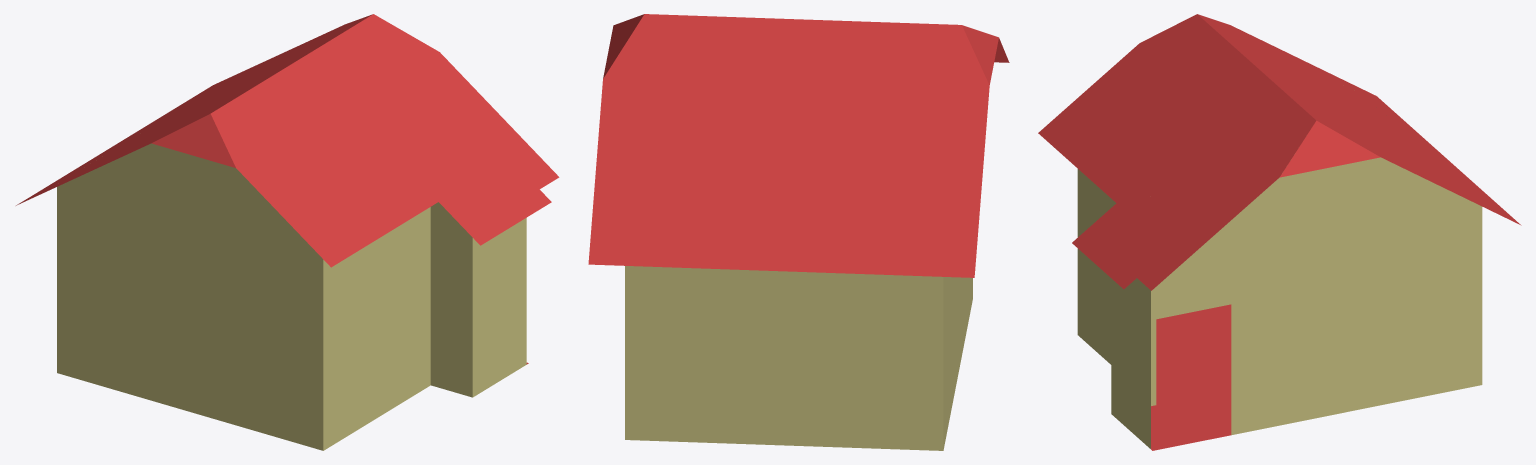
3 renders of one model, left to right at view 1: azimuth 30°, elevation 25°; view 2: azimuth 150°, elevation 25°; view 3: azimuth 270°, elevation 25°, orthographic. The views are drawn at different scales.
Bounding box in the file's own units: 16.19 × 16.24 × 10.98.
